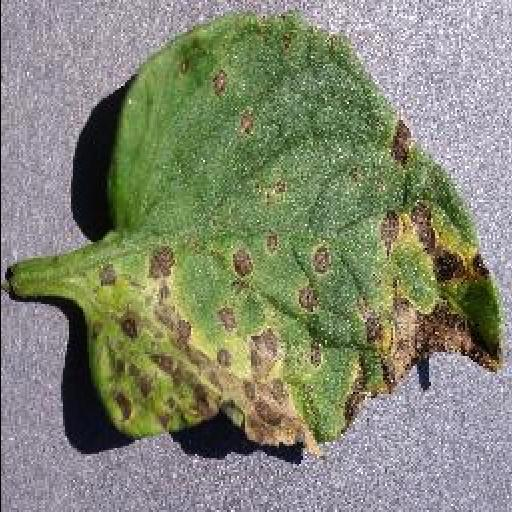disease_tomato: (81, 15, 503, 447)
